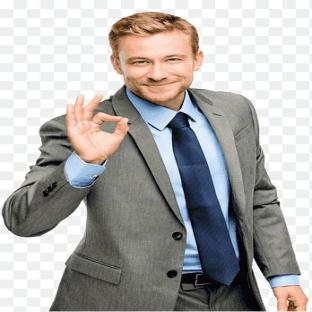Human: (3, 12, 307, 310)
